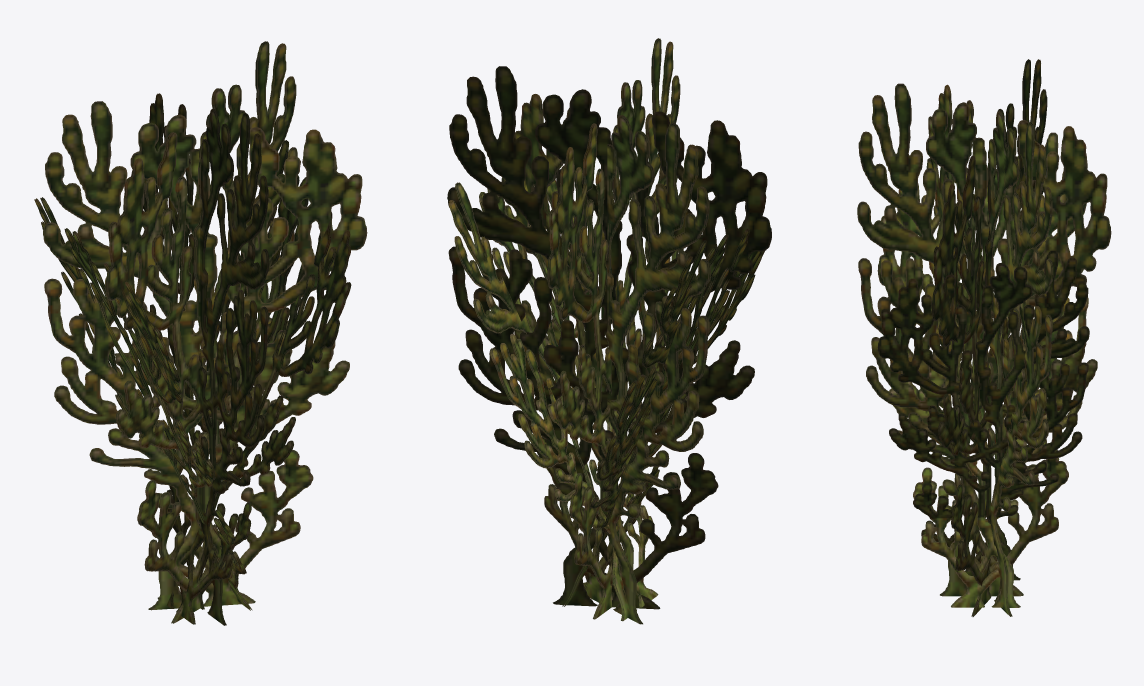
The model's file is elwynnseaweed01.obj.
3 views of the same model, side by side, from view 1: azimuth 30°, elevation 25°; view 2: azimuth 150°, elevation 25°; view 3: azimuth 270°, elevation 25° (orthographic). The views are drawn at different scales.
Parts seen in each view (by area): view 1: ELWYNNSEAWEED010; view 2: ELWYNNSEAWEED010; view 3: ELWYNNSEAWEED010.
Boxes of the visible parts, bbox=[...] form: ELWYNNSEAWEED010: bbox=[34, 41, 367, 625]; ELWYNNSEAWEED010: bbox=[447, 38, 771, 624]; ELWYNNSEAWEED010: bbox=[857, 59, 1111, 616].
Size of the model in its own units: 2.8 by 4.62 by 2.39.
Materials: 1 (1 with a texture image).
